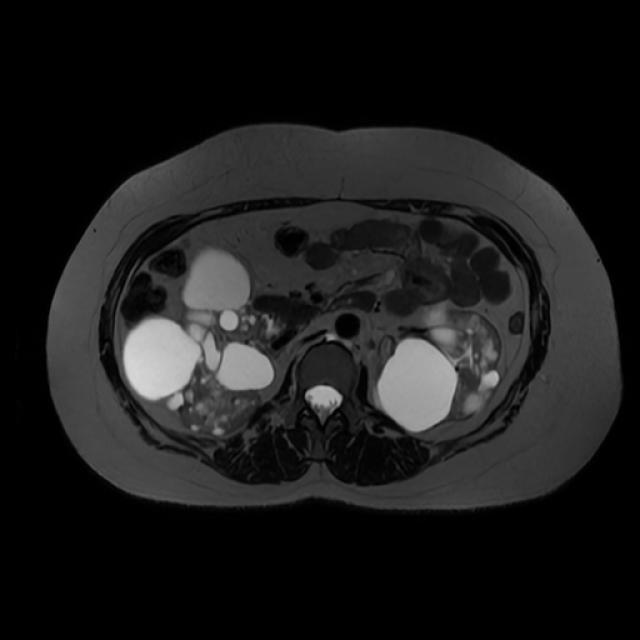sag: (123, 249, 276, 436)
sol: (379, 305, 501, 432)
